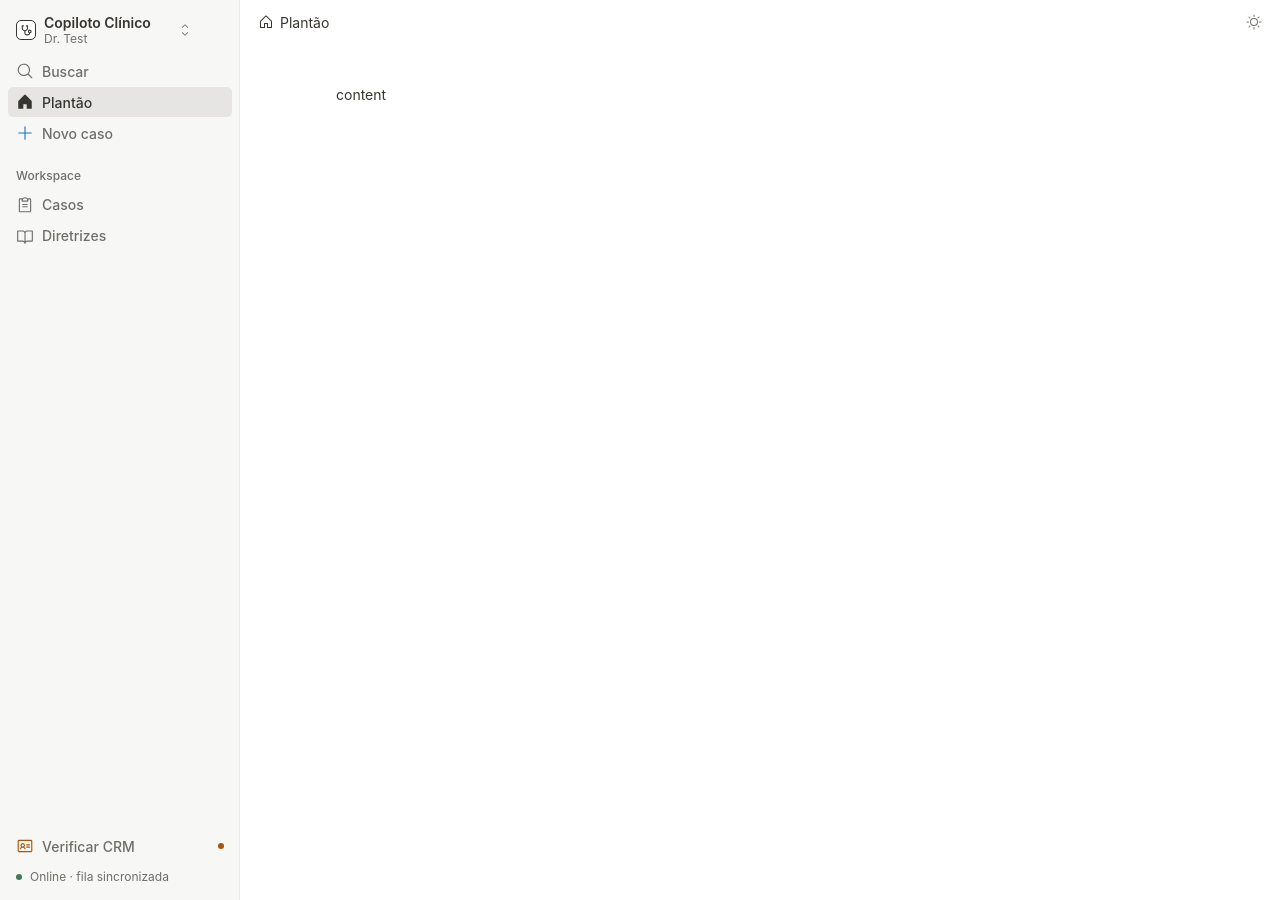
Test: AppShell navigation › renders the physician shell links and quick actions
Click the button with aria-label "ações rápidas" at (120, 71), box x1=8 y1=56 x2=232 y2=86
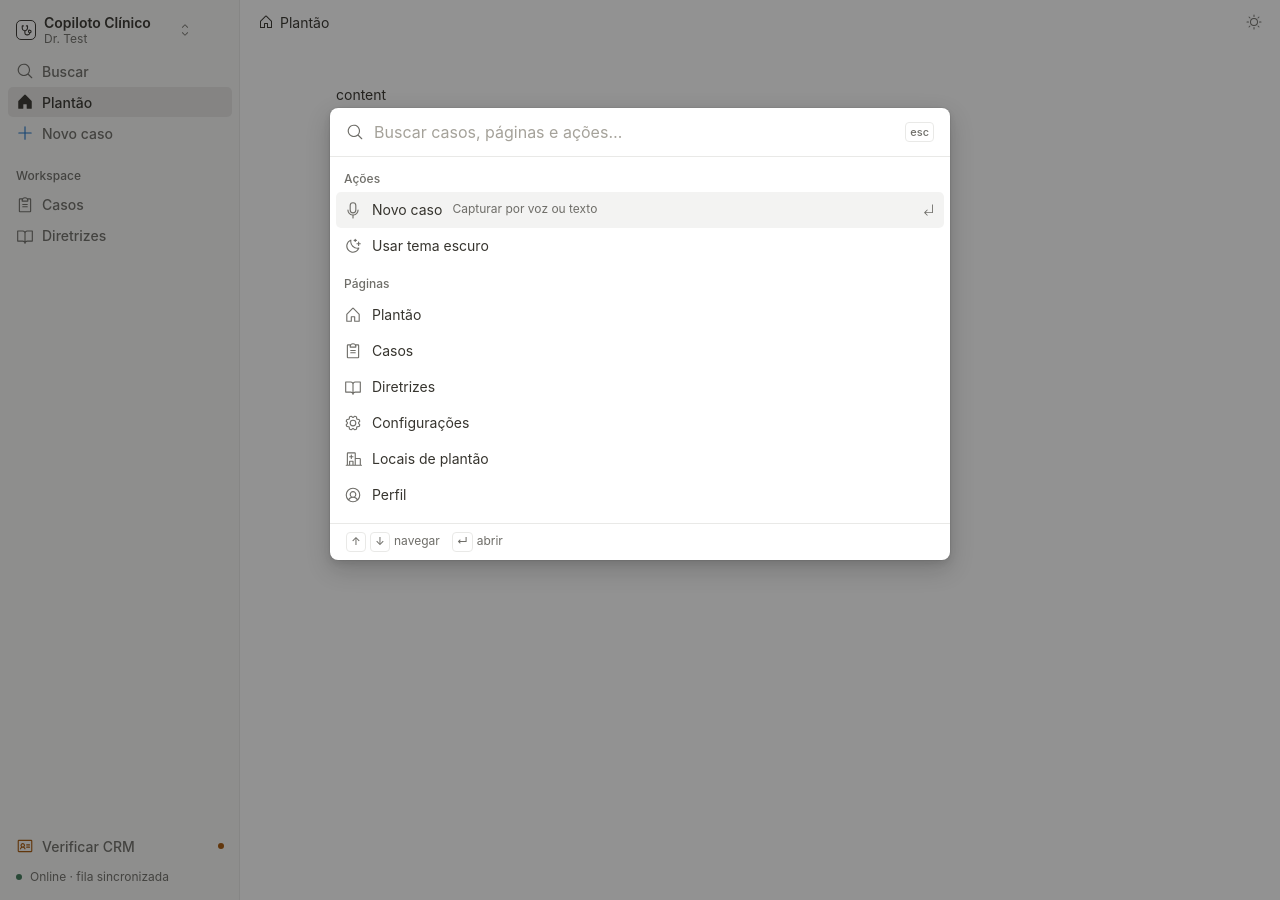
Now the dialog named "Ações rápidas" is shown, box x1=330 y1=108 x2=950 y2=560
